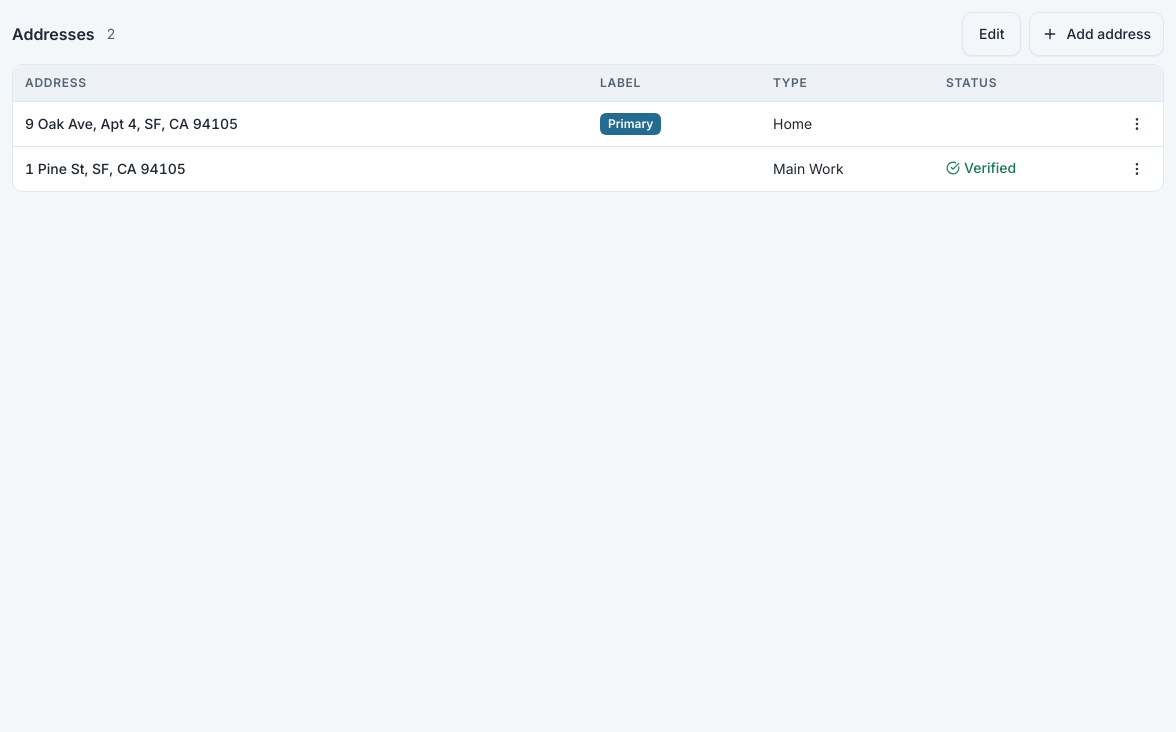
AddressesSection: entry points › the expanded row's grid: labels (optional ones marked), 44 px controls, Set as primary as saved, countries pinned first
This screenshot has width=1176, height=732.
Press Enter in the button named "More actions for 9 Oak Ave, Apt 4, SF, CA 94105", box top-left (1115, 102), bottom-right (1159, 146)
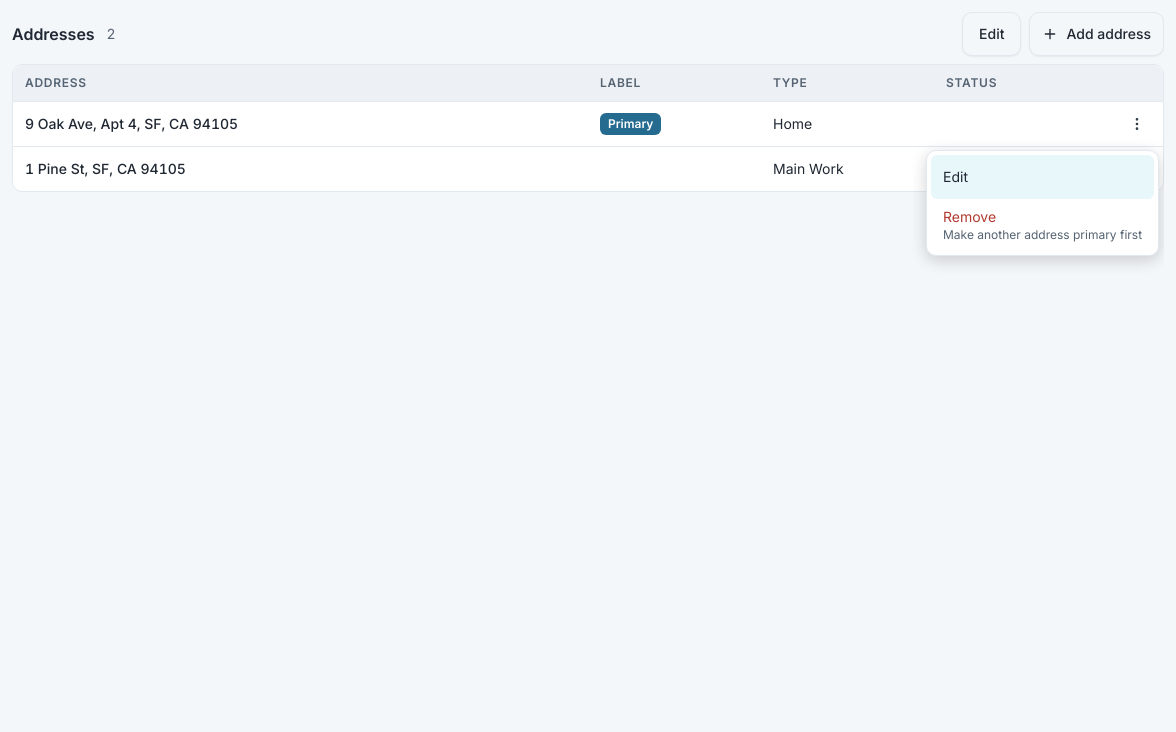
Click the menu item "Edit" at (1043, 177), box top-left (931, 155), bottom-right (1154, 199)
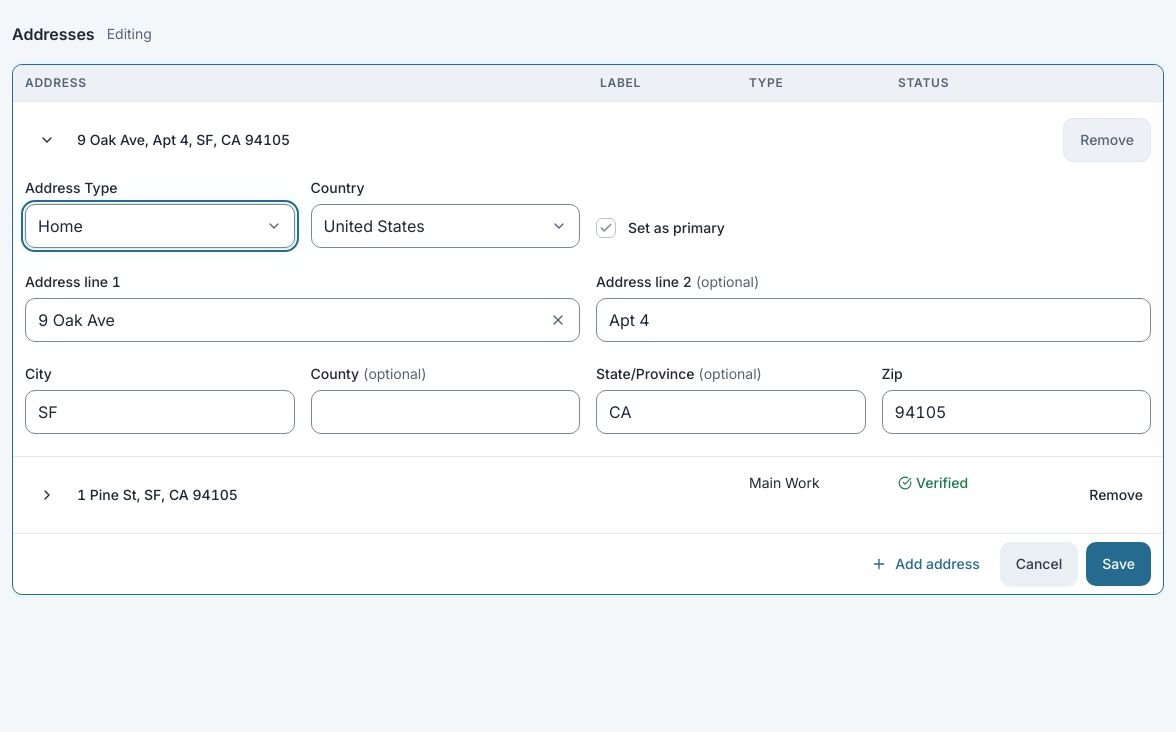
Expected: the field labelled "County (optional)" is empty, top-left (310, 390), bottom-right (580, 434)
Expected: the dropdown labelled "Address line 1" holds "9 Oak Ave", top-left (25, 298), bottom-right (580, 342)
Expected: the field labelled "Address line 2 (optional)" holds "Apt 4", top-left (596, 298), bottom-right (1151, 342)
Press Enter in the dropdown named "Country", box top-left (310, 204), bottom-right (580, 248)
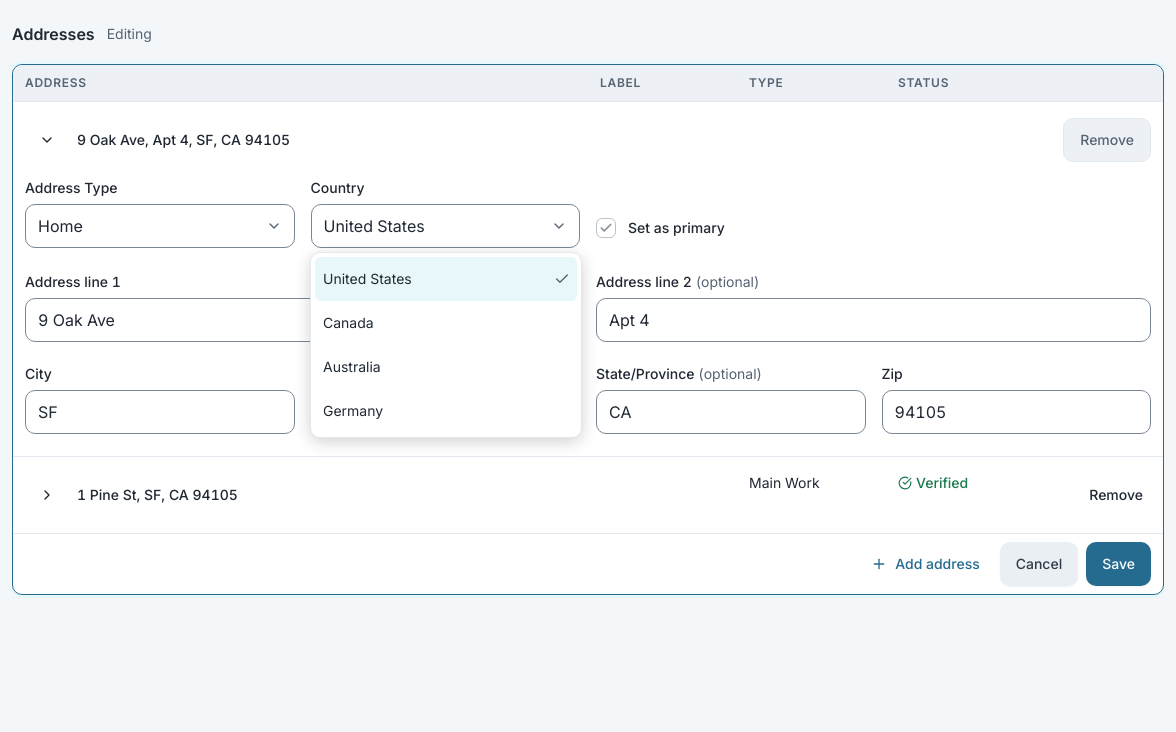
Expected: the options read "United States", "Canada", "Australia", "Germany", in this order, top-left (315, 257), bottom-right (576, 301); top-left (323, 314), bottom-right (374, 331); top-left (323, 358), bottom-right (381, 375); top-left (323, 402), bottom-right (383, 419)
Press Escape in the list, box top-left (310, 252), bottom-right (582, 438)
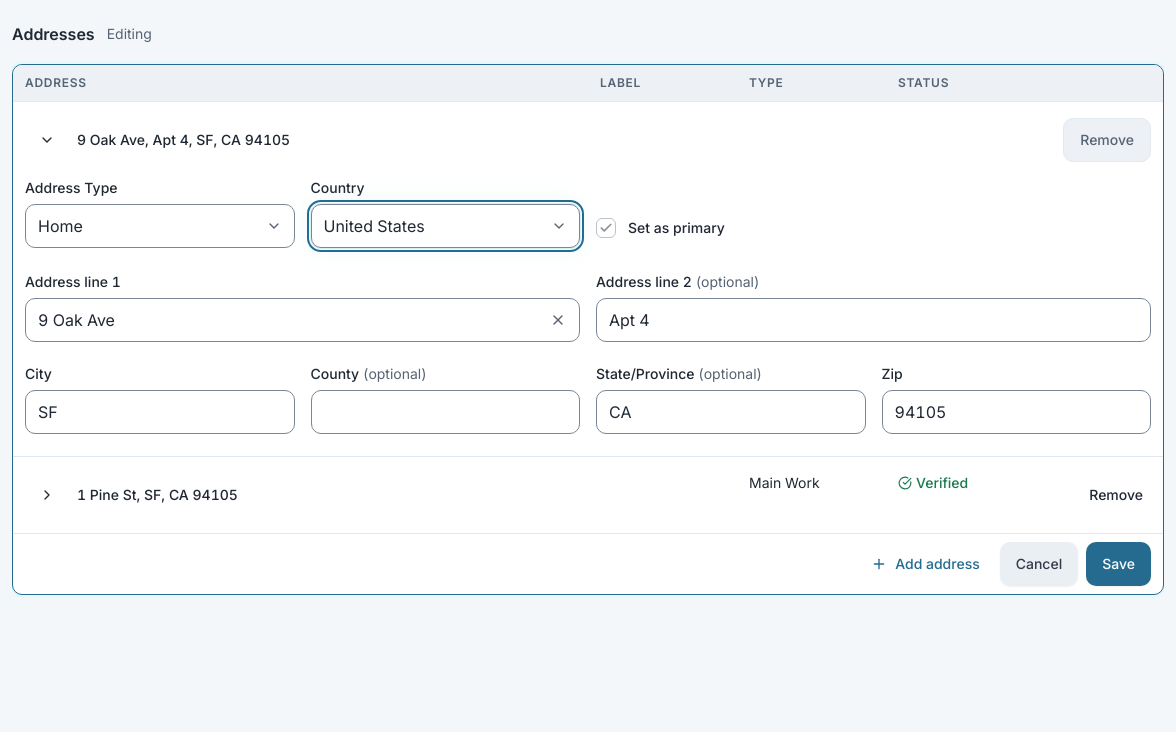
Press Enter in the dropdown named "Address Type", box top-left (25, 204), bottom-right (294, 248)
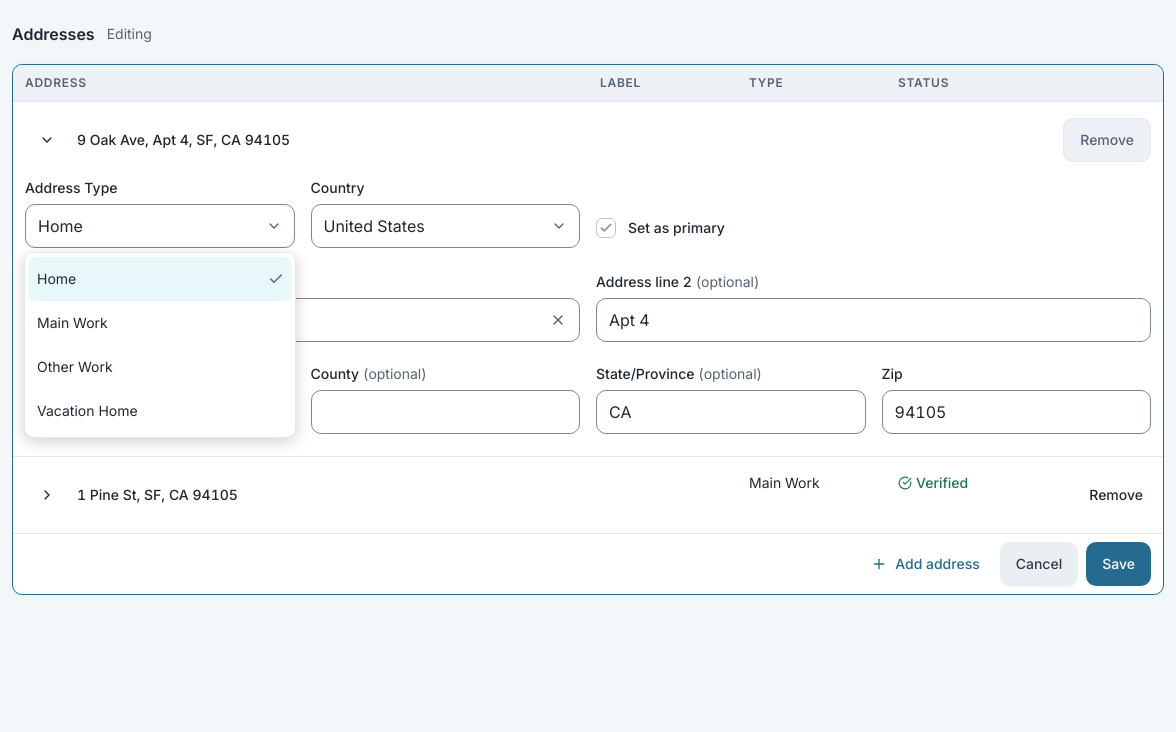
Expected: the options read "Home", "Main Work", "Other Work", "Vacation Home", in this order, top-left (29, 257), bottom-right (290, 301); top-left (37, 314), bottom-right (108, 331); top-left (37, 358), bottom-right (113, 375); top-left (37, 402), bottom-right (138, 419)
